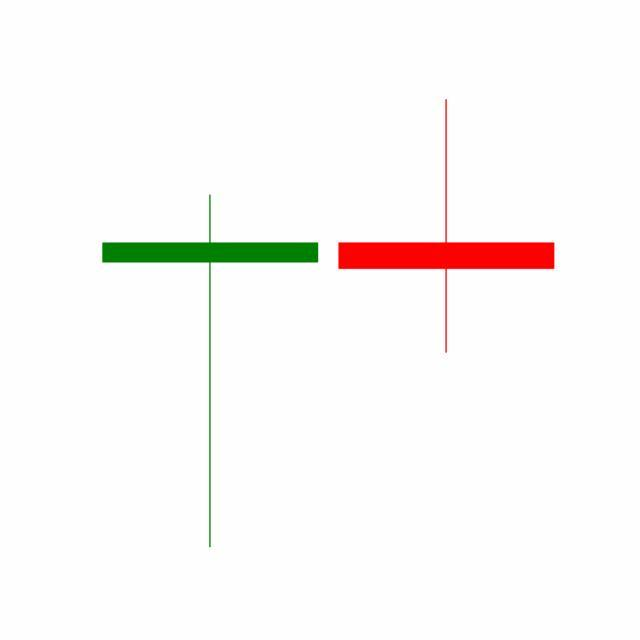Spinning Top: (328, 97, 566, 357)
